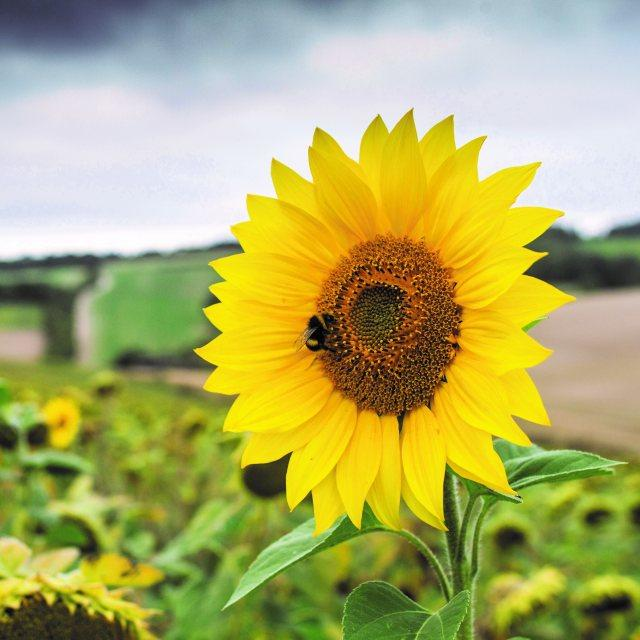sunflower: (183, 96, 573, 528)
